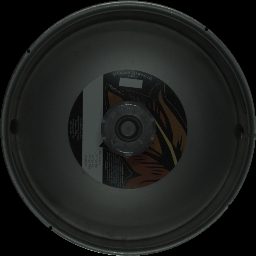collar: (63, 68, 189, 195)
fitting: (96, 99, 160, 163)
